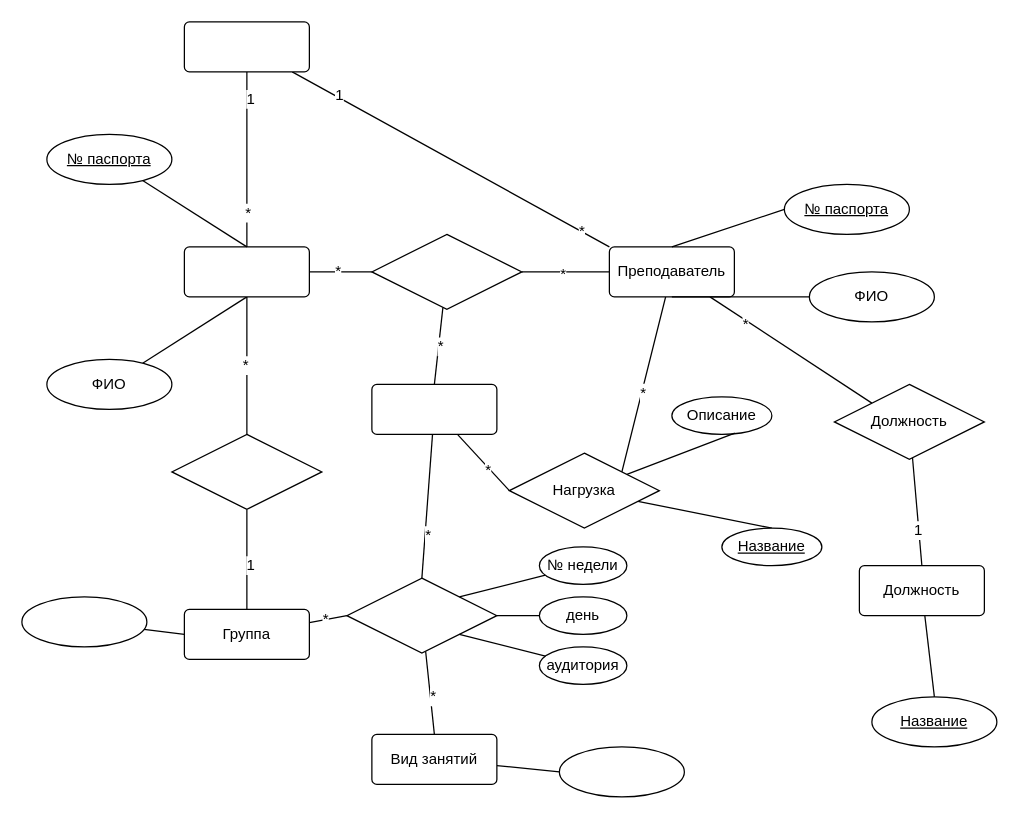
Some shapes in this 1019 by 819 pixel diagram are drawn without their labels. Each missing label, with the centre of its shape:
Ведомость: pixel 446 271
Вид: pixel 621 771
Директор: pixel 246 46
Дисциплина: pixel 434 408
Номер: pixel 84 621
Обучается: pixel 246 471
Расписание: pixel 421 615
Студент: pixel 246 271
